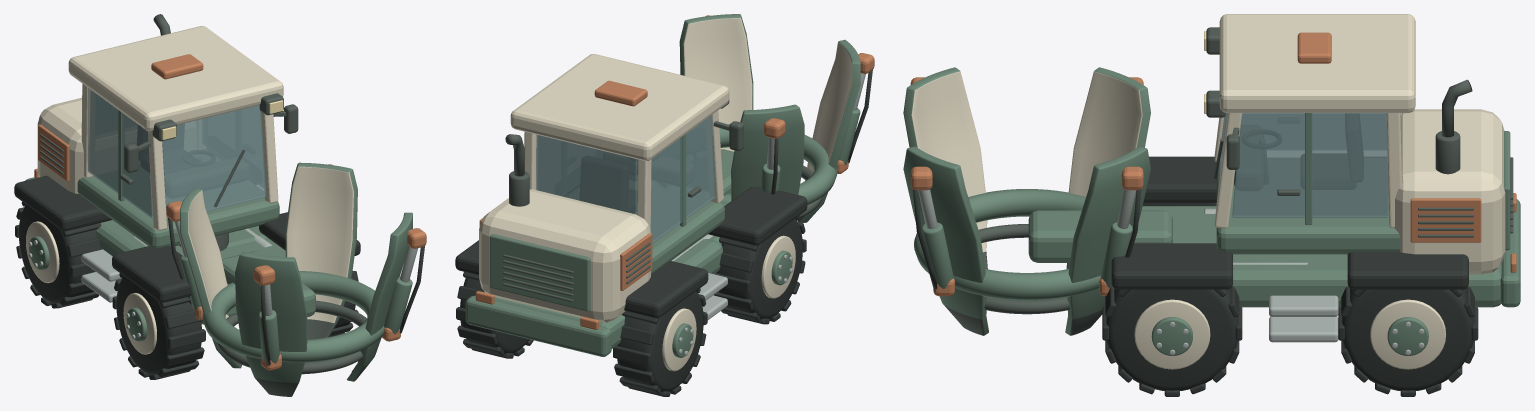
Rendered from tree_transplanter.glb.
The picture shows the model from 3 angles, left to right: view 1: azimuth 30°, elevation 25°; view 2: azimuth 150°, elevation 25°; view 3: azimuth 270°, elevation 25°; orthographic projection. The views are drawn at different scales.
Parts seen in each view (by area): view 1: Cab_Roof, Cab_Front_Windscreen, Digging_Petal_0_Curved_Shell, Cab_Floor, Digging_Petal_2_Curved_Shell, Empty_Rootball_Cradle_Upper_Rim, Cab_Side_Glazing_-1, Engine_Counterweight, Digging_Petal_1_Curved_Shell, Wheel_-1_0_Rubber_Carcass, Rounded_Fender_-1_0, Rounded_Fender_-1_1 (+35 smaller); view 2: Cab_Roof, Engine_Counterweight, Cab_Rear_Windscreen, Digging_Petal_3_Curved_Shell, Cab_Side_Glazing_-1, Rear_Engine_Access, Digging_Petal_1_Curved_Shell, Rear_Protective_Bumper, Cab_Floor, Digging_Petal_2_Curved_Shell, Rounded_Fender_-1_0, Wheel_-1_1_Rubber_Carcass (+33 smaller); view 3: Cab_Roof, Cab_Side_Glazing_1, Cab_Floor, Engine_Counterweight, Wheel_1_1_Rubber_Carcass, Wheel_1_0_Rubber_Carcass, Digging_Petal_2_Curved_Shell, Digging_Petal_3_Curved_Shell, Digging_Petal_0_Curved_Shell, Digging_Petal_1_Curved_Shell, Empty_Rootball_Cradle_Upper_Rim, Rear_Main_Frame (+27 smaller).
Part boxes in pixels (x1,y1,x2,y2): Cab_Roof: [68, 26, 283, 131]; Cab_Front_Windscreen: [162, 105, 266, 220]; Digging_Petal_0_Curved_Shell: [285, 162, 357, 339]; Cab_Floor: [77, 149, 279, 248]; Digging_Petal_2_Curved_Shell: [235, 252, 307, 396]; Empty_Rootball_Cradle_Upper_Rim: [202, 271, 384, 362]; Cab_Side_Glazing_-1: [87, 88, 152, 218]; Engine_Counterweight: [37, 97, 196, 193]; Digging_Petal_1_Curved_Shell: [180, 188, 241, 368]; Wheel_-1_0_Rubber_Carcass: [116, 276, 201, 375]; Rounded_Fender_-1_0: [112, 246, 191, 302]; Rounded_Fender_-1_1: [14, 175, 111, 231]; Cab_Roof: [510, 54, 729, 160]; Engine_Counterweight: [479, 189, 650, 322]; Cab_Rear_Windscreen: [536, 135, 637, 214]; Digging_Petal_3_Curved_Shell: [679, 14, 753, 151]; Cab_Side_Glazing_-1: [650, 115, 715, 243]; Rear_Engine_Access: [489, 234, 590, 311]; Digging_Petal_1_Curved_Shell: [731, 104, 804, 200]; Rear_Protective_Bumper: [465, 295, 611, 356]; Cab_Floor: [567, 180, 724, 274]; Digging_Petal_2_Curved_Shell: [798, 39, 860, 222]; Rounded_Fender_-1_0: [708, 186, 807, 245]; Wheel_-1_1_Rubber_Carcass: [617, 291, 703, 392]; Cab_Roof: [1219, 14, 1415, 112]; Cab_Side_Glazing_1: [1232, 113, 1388, 217]; Cab_Floor: [1216, 158, 1400, 254]; Engine_Counterweight: [1394, 109, 1505, 274]; Wheel_1_1_Rubber_Carcass: [1342, 288, 1474, 390]; Wheel_1_0_Rubber_Carcass: [1106, 288, 1238, 390]; Digging_Petal_2_Curved_Shell: [903, 67, 987, 269]; Digging_Petal_3_Curved_Shell: [903, 146, 988, 335]; Digging_Petal_0_Curved_Shell: [1065, 146, 1150, 335]; Digging_Petal_1_Curved_Shell: [1066, 67, 1150, 268]; Empty_Rootball_Cradle_Upper_Rim: [914, 189, 1100, 300]; Rear_Main_Frame: [1232, 254, 1501, 307].
Size of the model in its own units: 2.91 by 3.31 by 6.2.
